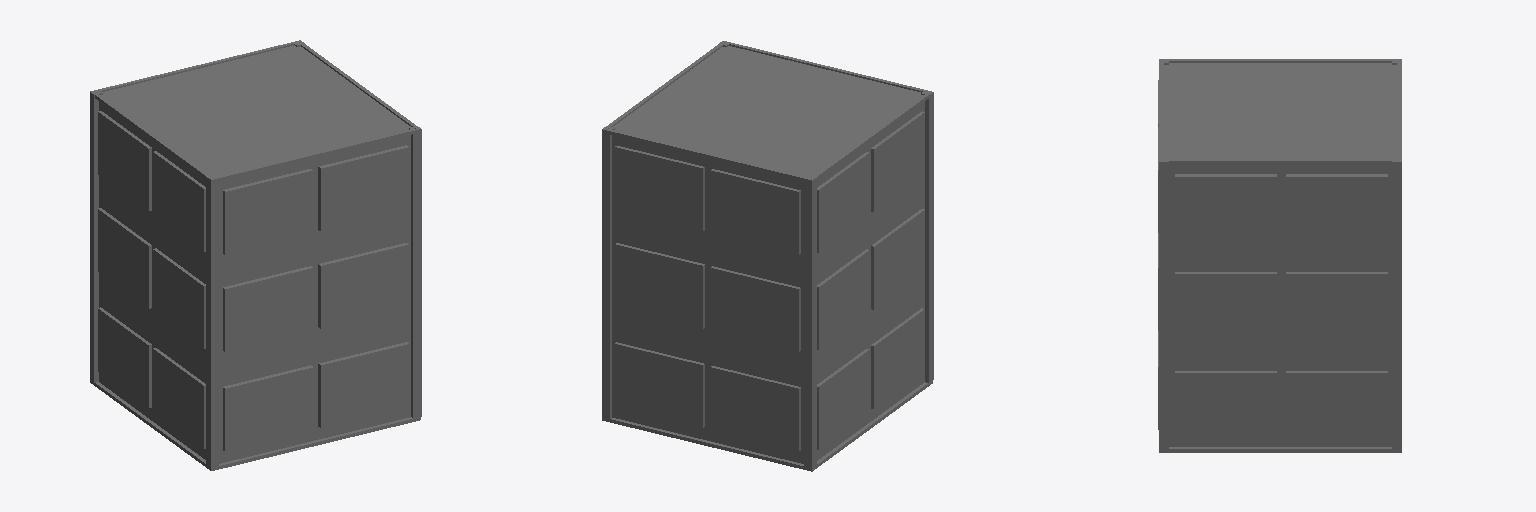
File: BUILDING_SMALL.obj
3 renders of one model, left to right at view 1: azimuth 30°, elevation 25°; view 2: azimuth 150°, elevation 25°; view 3: azimuth 270°, elevation 25°, orthographic.
Parts seen in each view (by area): view 1: BUILDING_SMALL:polySurface1; view 2: BUILDING_SMALL:polySurface1; view 3: BUILDING_SMALL:polySurface1.
Part boxes in pixels (left/top/right/bottom): BUILDING_SMALL:polySurface1: left=90, top=40, right=421, bottom=470; BUILDING_SMALL:polySurface1: left=602, top=41, right=933, bottom=471; BUILDING_SMALL:polySurface1: left=1158, top=59, right=1401, bottom=452.
Bounding box in the file's own units: 3.45 × 4.55 × 3.45.